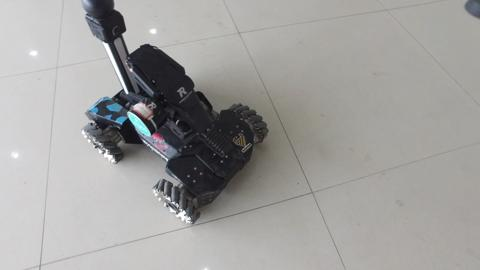chariot: (57, 7, 250, 216)
